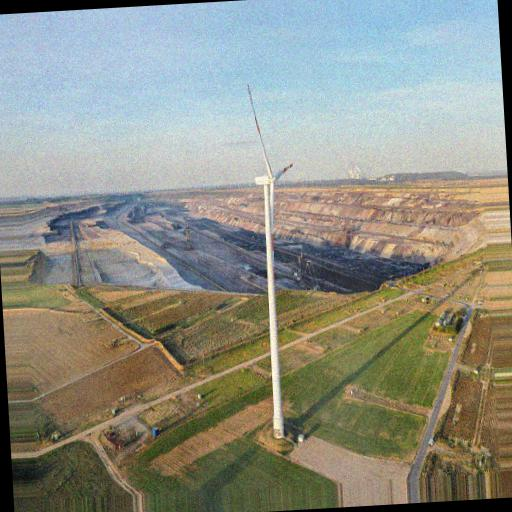wind turbine: (245, 82, 297, 433)
